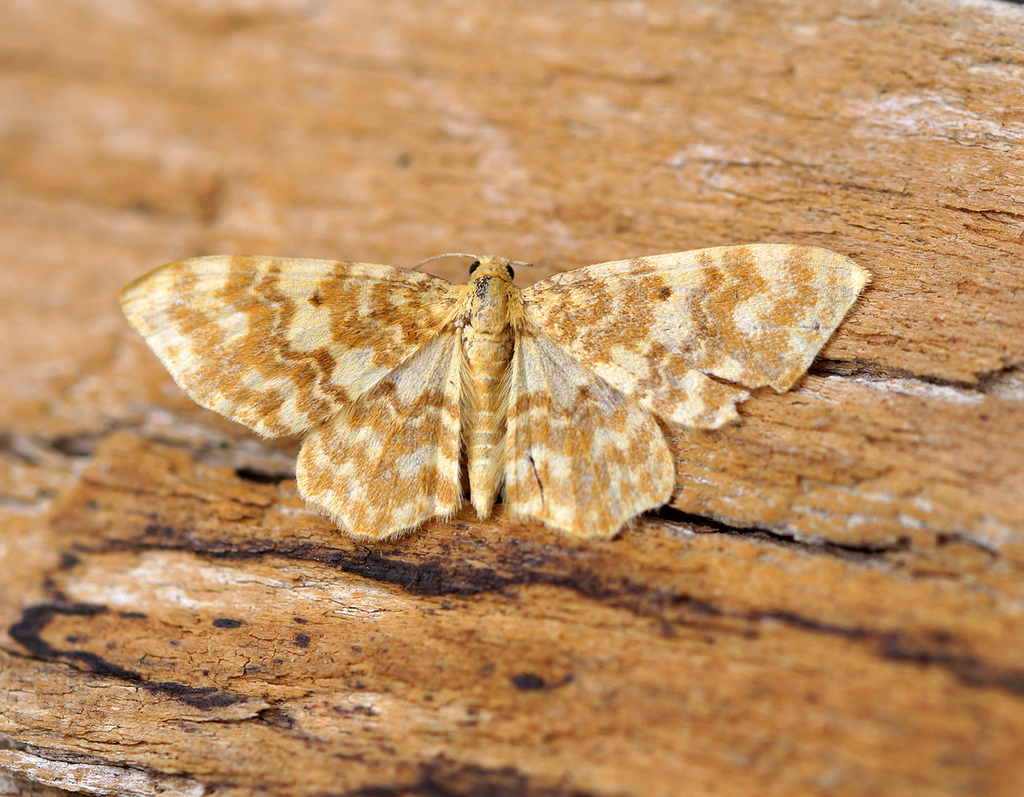Butterfly: (121, 231, 884, 559)
